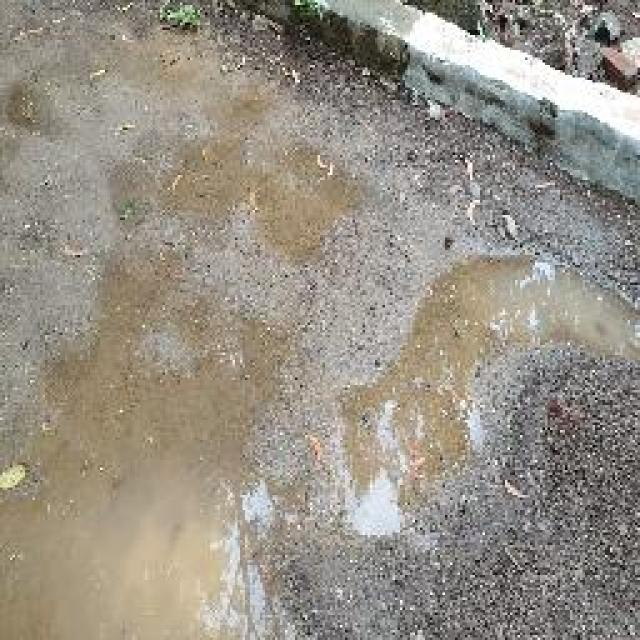puddle: (323, 255, 640, 544), (1, 367, 290, 640)
